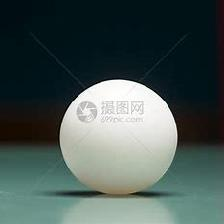WhiteBall: (58, 80, 177, 194)
